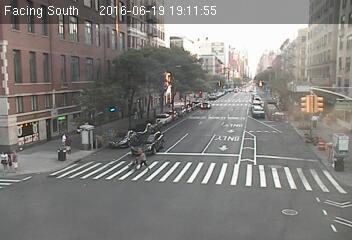neg: (323, 139, 339, 161), (277, 105, 291, 124), (309, 115, 320, 130)
pos: (136, 148, 152, 169), (5, 149, 21, 170), (4, 153, 15, 167)
